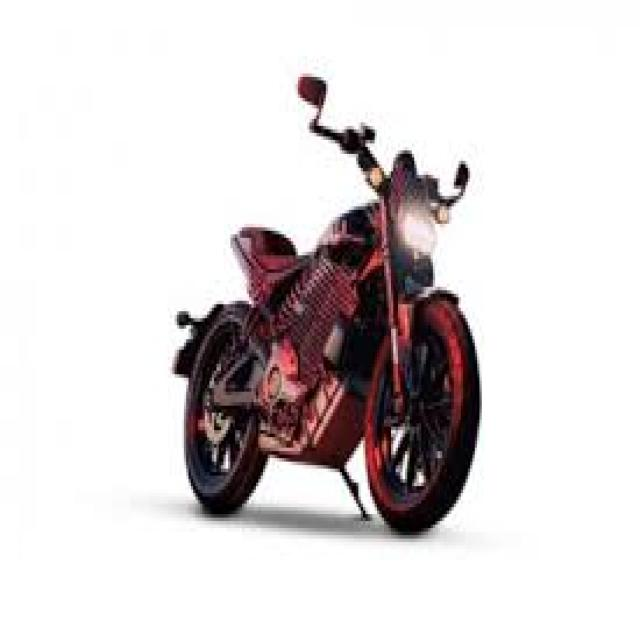MOTORCYCLE: (180, 191, 486, 537)
